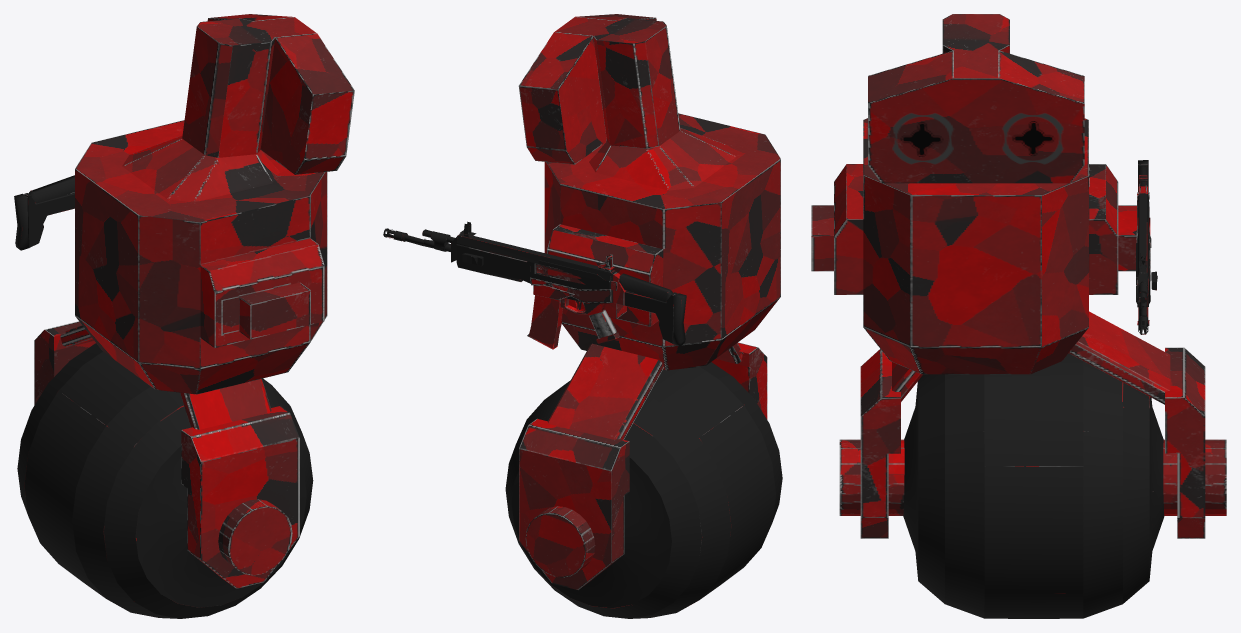
The model's file is Robot.fbx.
3 views of the same model, side by side, from view 1: azimuth 30°, elevation 25°; view 2: azimuth 150°, elevation 25°; view 3: azimuth 270°, elevation 25° (orthographic). The views are drawn at different scales.
Visible parts, largest first — view 1: Cube.002; view 2: Cube.002; view 3: Cube.002.
Boxes of the visible parts, x1,y1,x2,y2 form: Cube.002: [14, 14, 354, 618]; Cube.002: [383, 14, 782, 618]; Cube.002: [811, 14, 1226, 618].
Bounding box in the file's own units: 0.8971 × 1.46 × 0.9153.
1 material, 1 textured.
